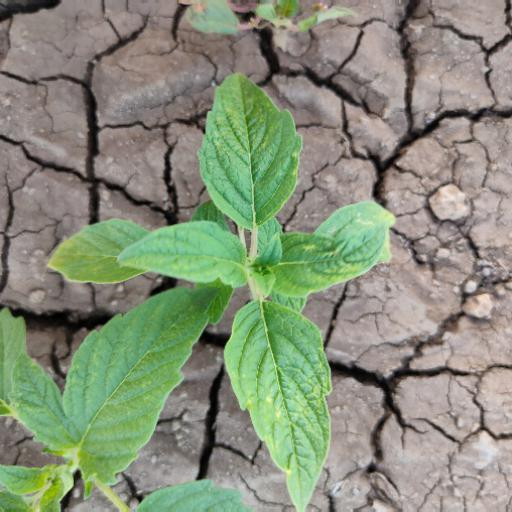crop: (47, 70, 398, 512), (1, 279, 254, 512)
